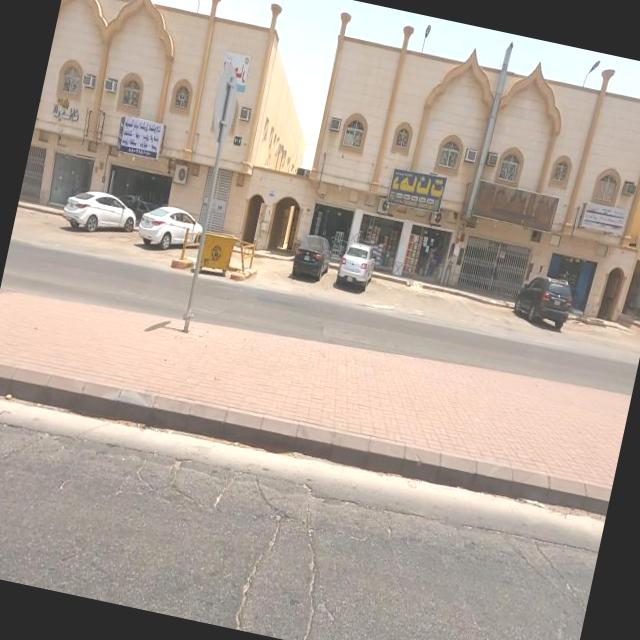debris: (425, 142, 608, 273)
